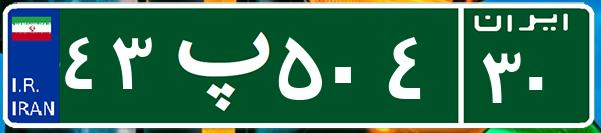0: (330, 28, 385, 110), (525, 38, 570, 115)
3: (475, 38, 525, 113), (110, 28, 158, 105)
4: (385, 28, 445, 110), (57, 26, 110, 107)
5: (273, 28, 330, 110)
پ: (158, 15, 273, 115)
